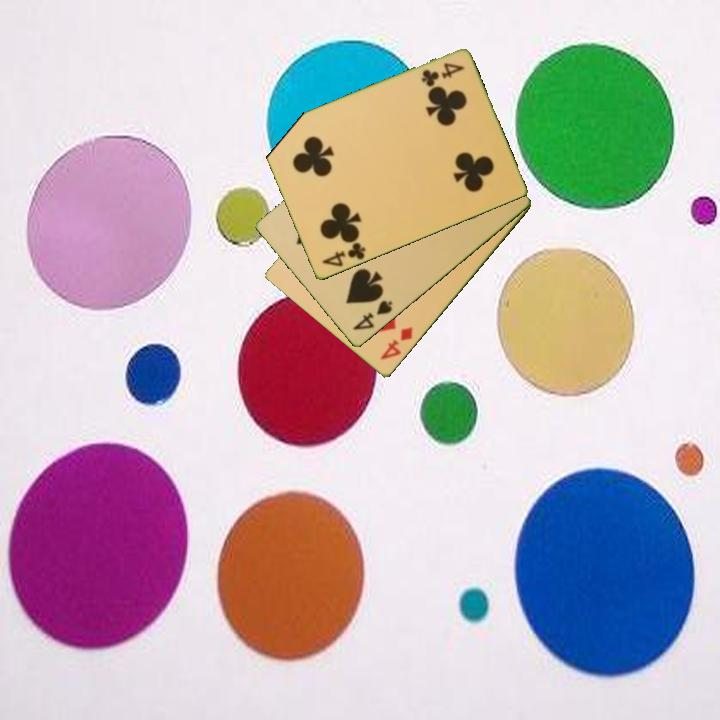4c: (318, 239, 368, 270), (417, 60, 467, 89)
4d: (377, 324, 416, 363)
4s: (349, 297, 396, 334)
